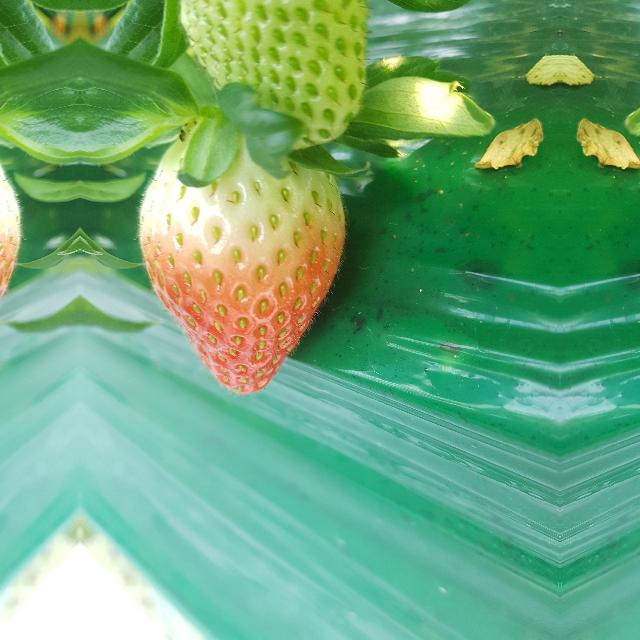Health_50: (136, 117, 347, 395)
